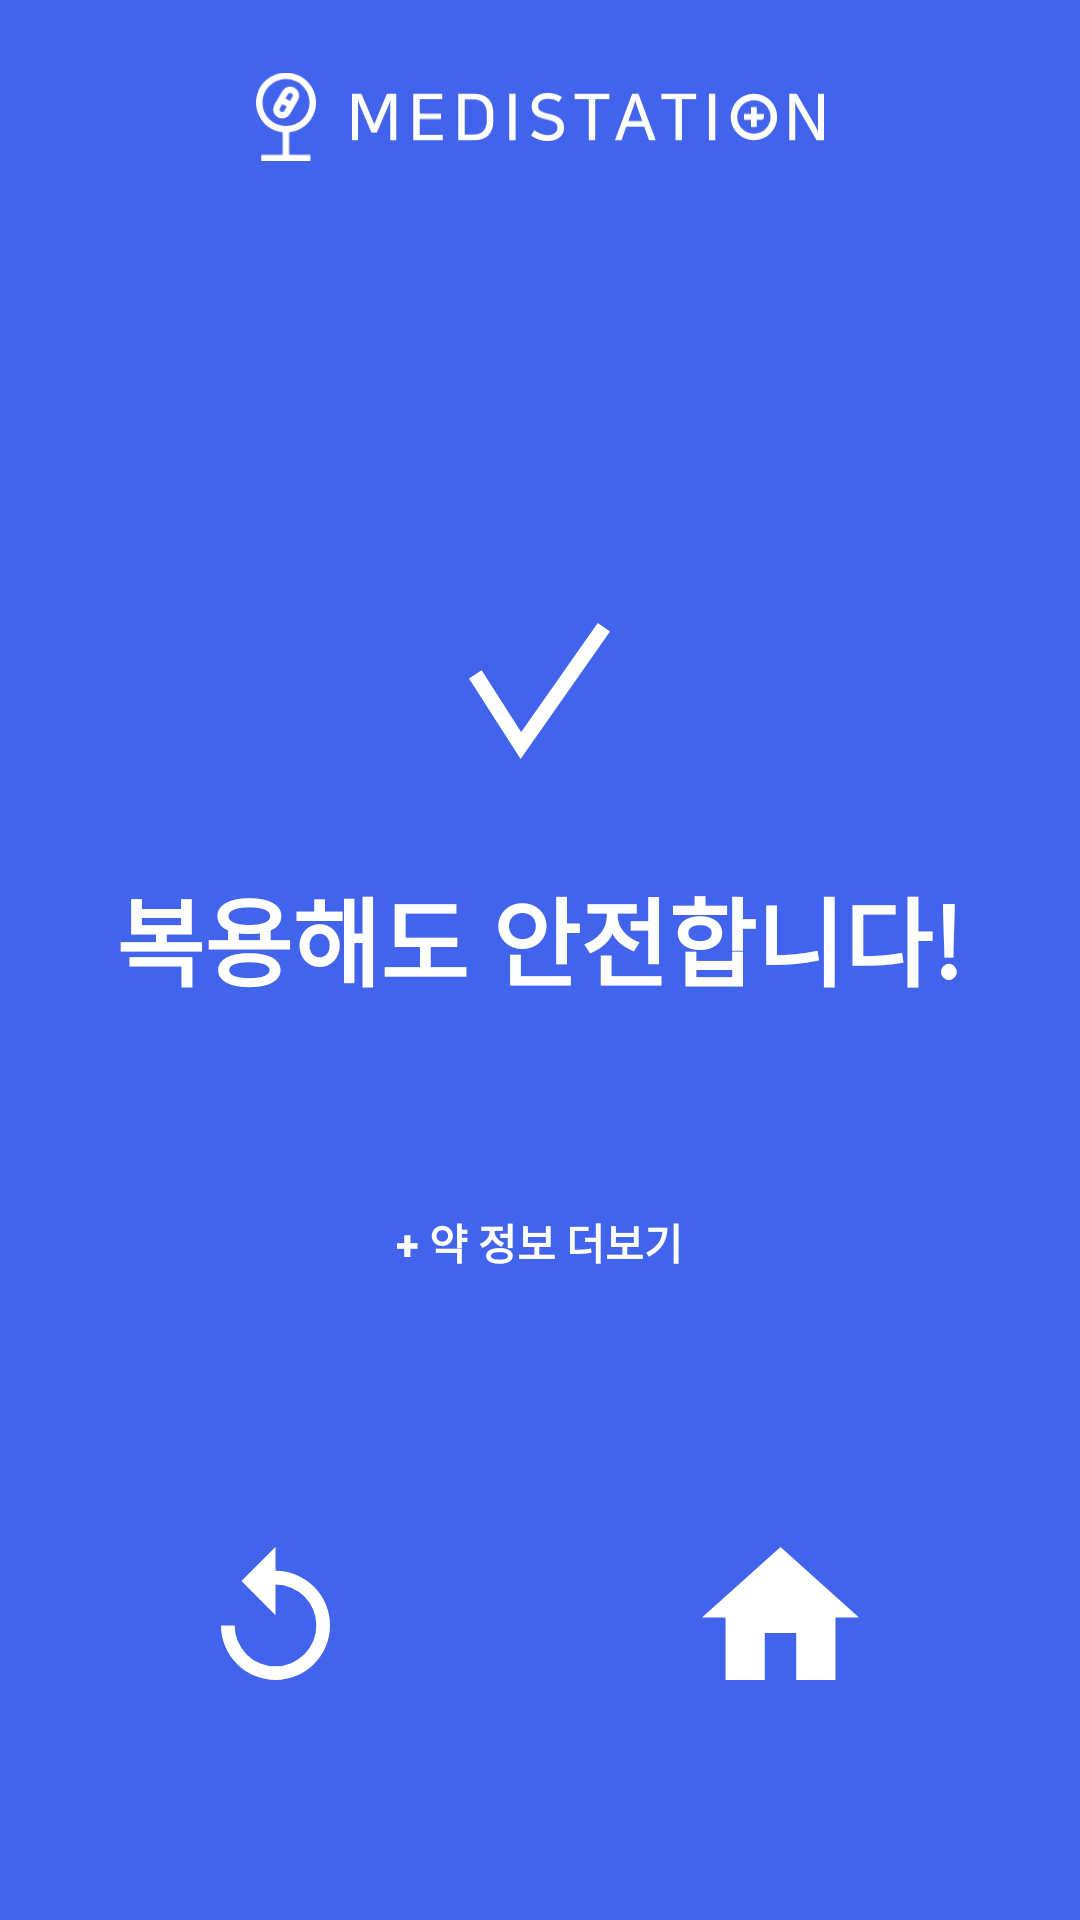

Where icons sit on this 1080px×1920px app screen, as bbox(x1, y1, x2, y2):
check: bbox(469, 623, 610, 759)
go back: bbox(221, 1547, 330, 1680)
home: bbox(702, 1547, 859, 1680)
